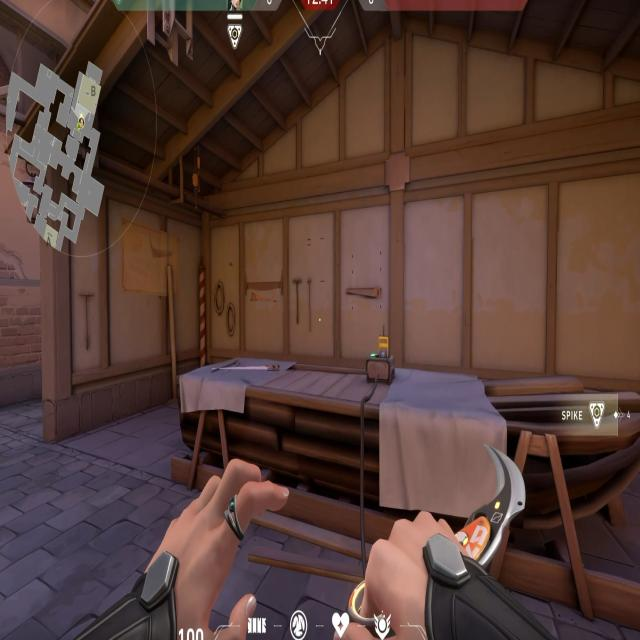B_Garage_Left: (19, 145, 398, 530)
